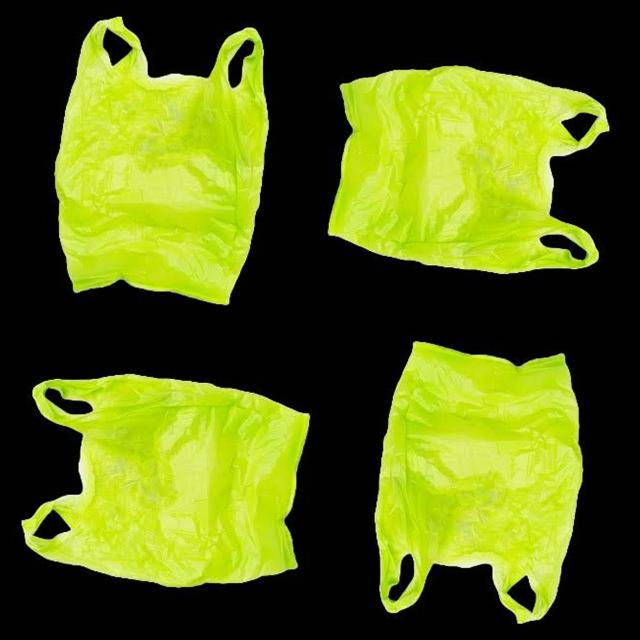Single-layer Plastic: (55, 18, 268, 304), (22, 375, 309, 586), (329, 66, 609, 272), (376, 342, 582, 622)
